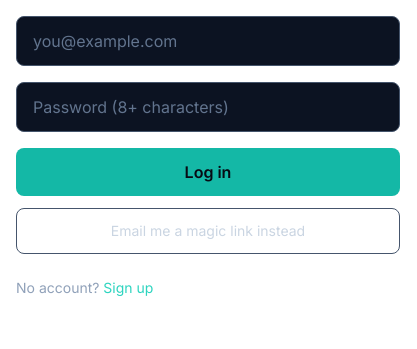
Test case: AuthForm login › shows an error on bad credentials
Type "a@b.com" into the field with placeholder "you@example.com" at coordinates (208, 41), box 16,16 -> 400,66
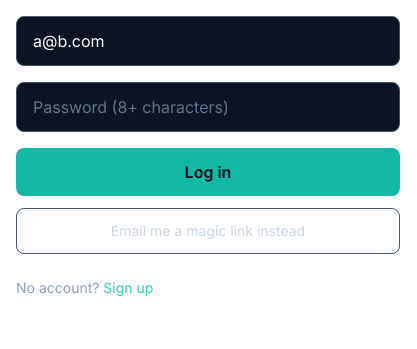
Type "password123" into the password field with placeholder "Password (8+ characters)" at coordinates (208, 107), box 16,82 -> 400,132
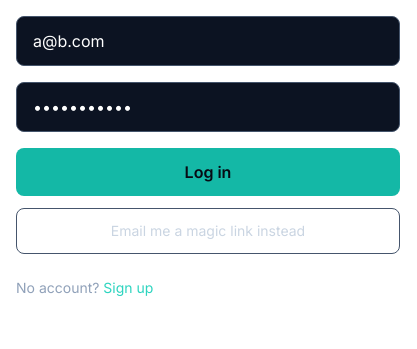
Click the button "Log in" at coordinates (208, 172), box 16,148 -> 400,196
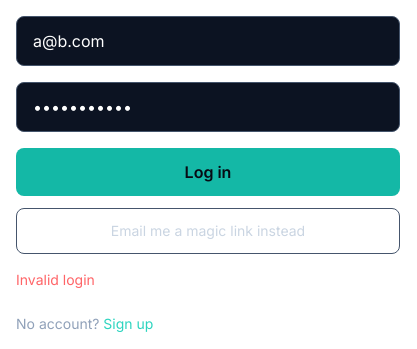
Expected: the text "Invalid login" is shown, 16,271 -> 95,288
